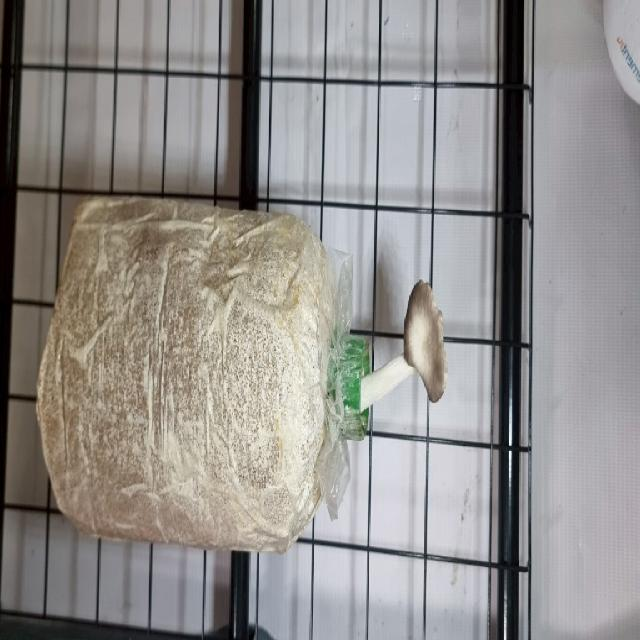normal: (350, 280, 450, 426)
